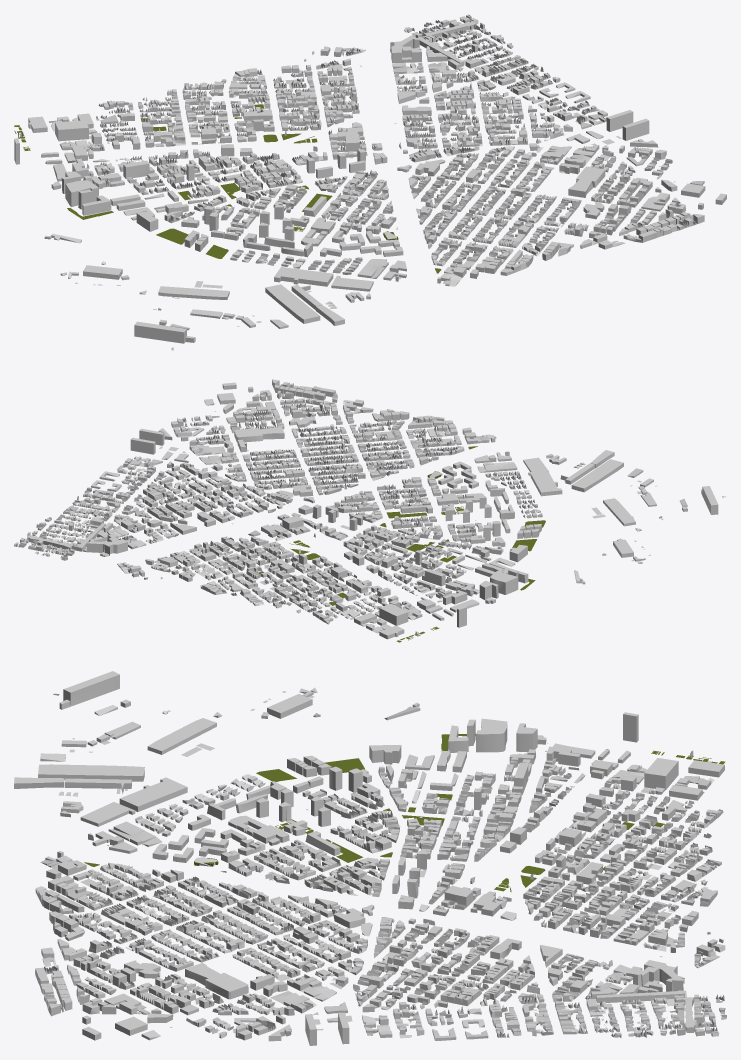
File: area6_lod0-transformed.glb
3 renders of one model, top to bottom at view 1: azimuth 30°, elevation 25°; view 2: azimuth 150°, elevation 25°; view 3: azimuth 270°, elevation 25°, orthographic. The views are drawn at different scales.
Visible parts, largest first — view 1: Areas:building.012, Areas:leisure.011; view 2: Areas:building.012, Areas:leisure.011; view 3: Areas:building.012, Areas:leisure.011.
Boxes of the visible parts, <box> form: Areas:building.012: <box>14,14,726,350</box>; Areas:leisure.011: <box>14,104,441,273</box>; Areas:building.012: <box>14,379,726,639</box>; Areas:leisure.011: <box>257,446,545,642</box>; Areas:building.012: <box>14,671,726,1045</box>; Areas:leisure.011: <box>84,734,725,892</box>.
Bounding box in the file's own units: 2787 × 94.23 × 2328.
